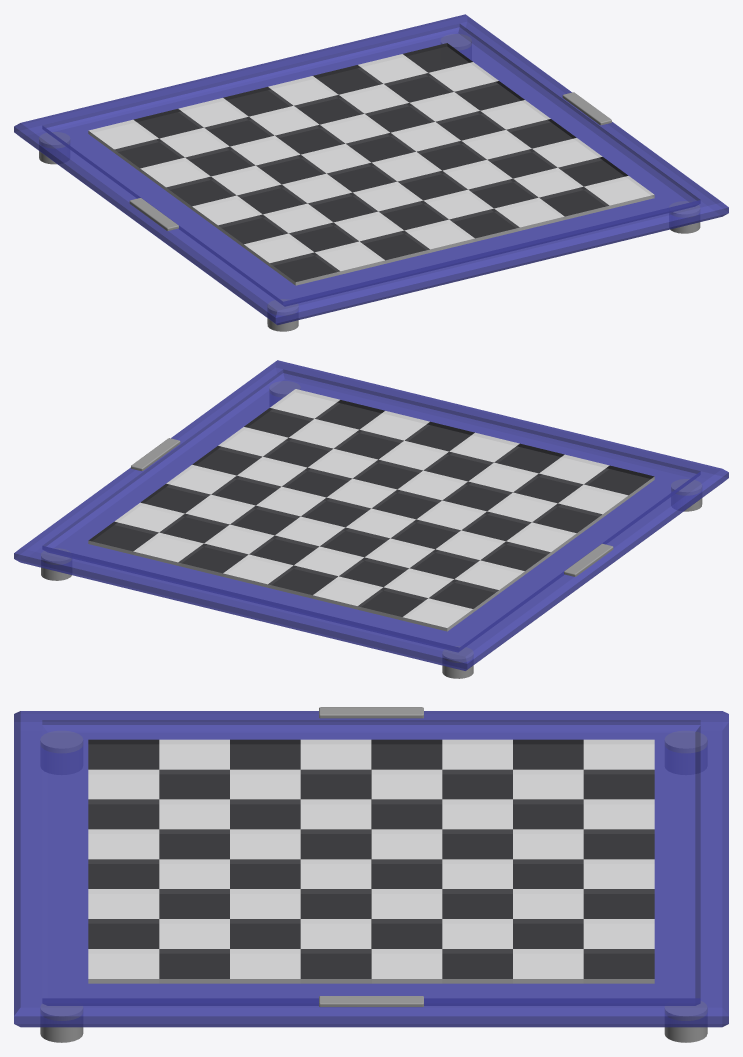
Rendered from KIBANN.fbx.
The picture shows the model from 3 angles, top to bottom: view 1: azimuth 30°, elevation 25°; view 2: azimuth 150°, elevation 25°; view 3: azimuth 270°, elevation 25°; orthographic projection. The views are drawn at different scales.
Visible parts, largest first — view 1: pCylinder5; view 2: pCylinder5; view 3: pCylinder5.
Part boxes in pixels (x1=…): pCylinder5: x1=14, y1=14, x2=728, y2=331; pCylinder5: x1=14, y1=360, x2=728, y2=678; pCylinder5: x1=14, y1=707, x2=728, y2=1042.
Size of the model in its own units: 12.95 by 0.9002 by 12.95.
